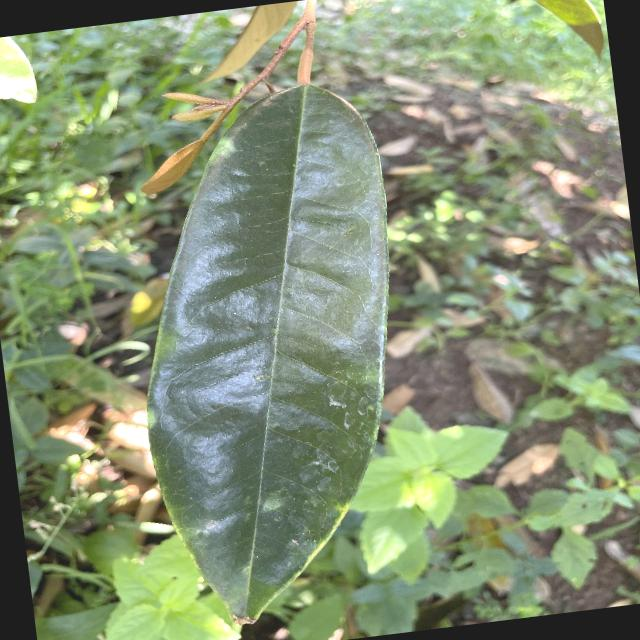No Disease: (97, 56, 446, 639)
